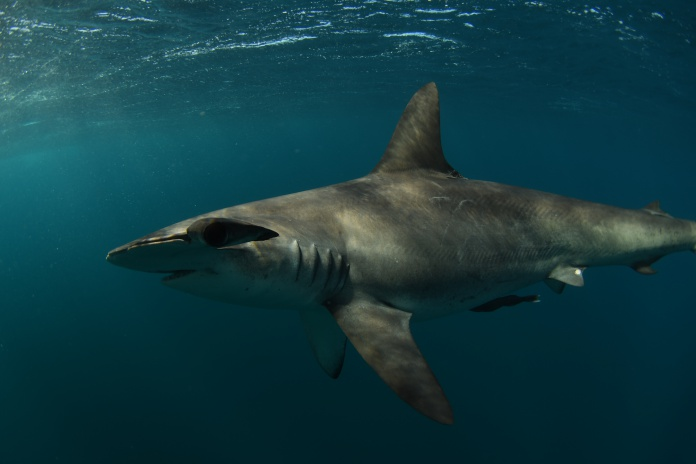Hammer: (75, 65, 696, 421)
